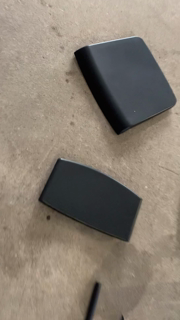Back: (37, 157, 145, 245)
Seat: (72, 35, 178, 138)
